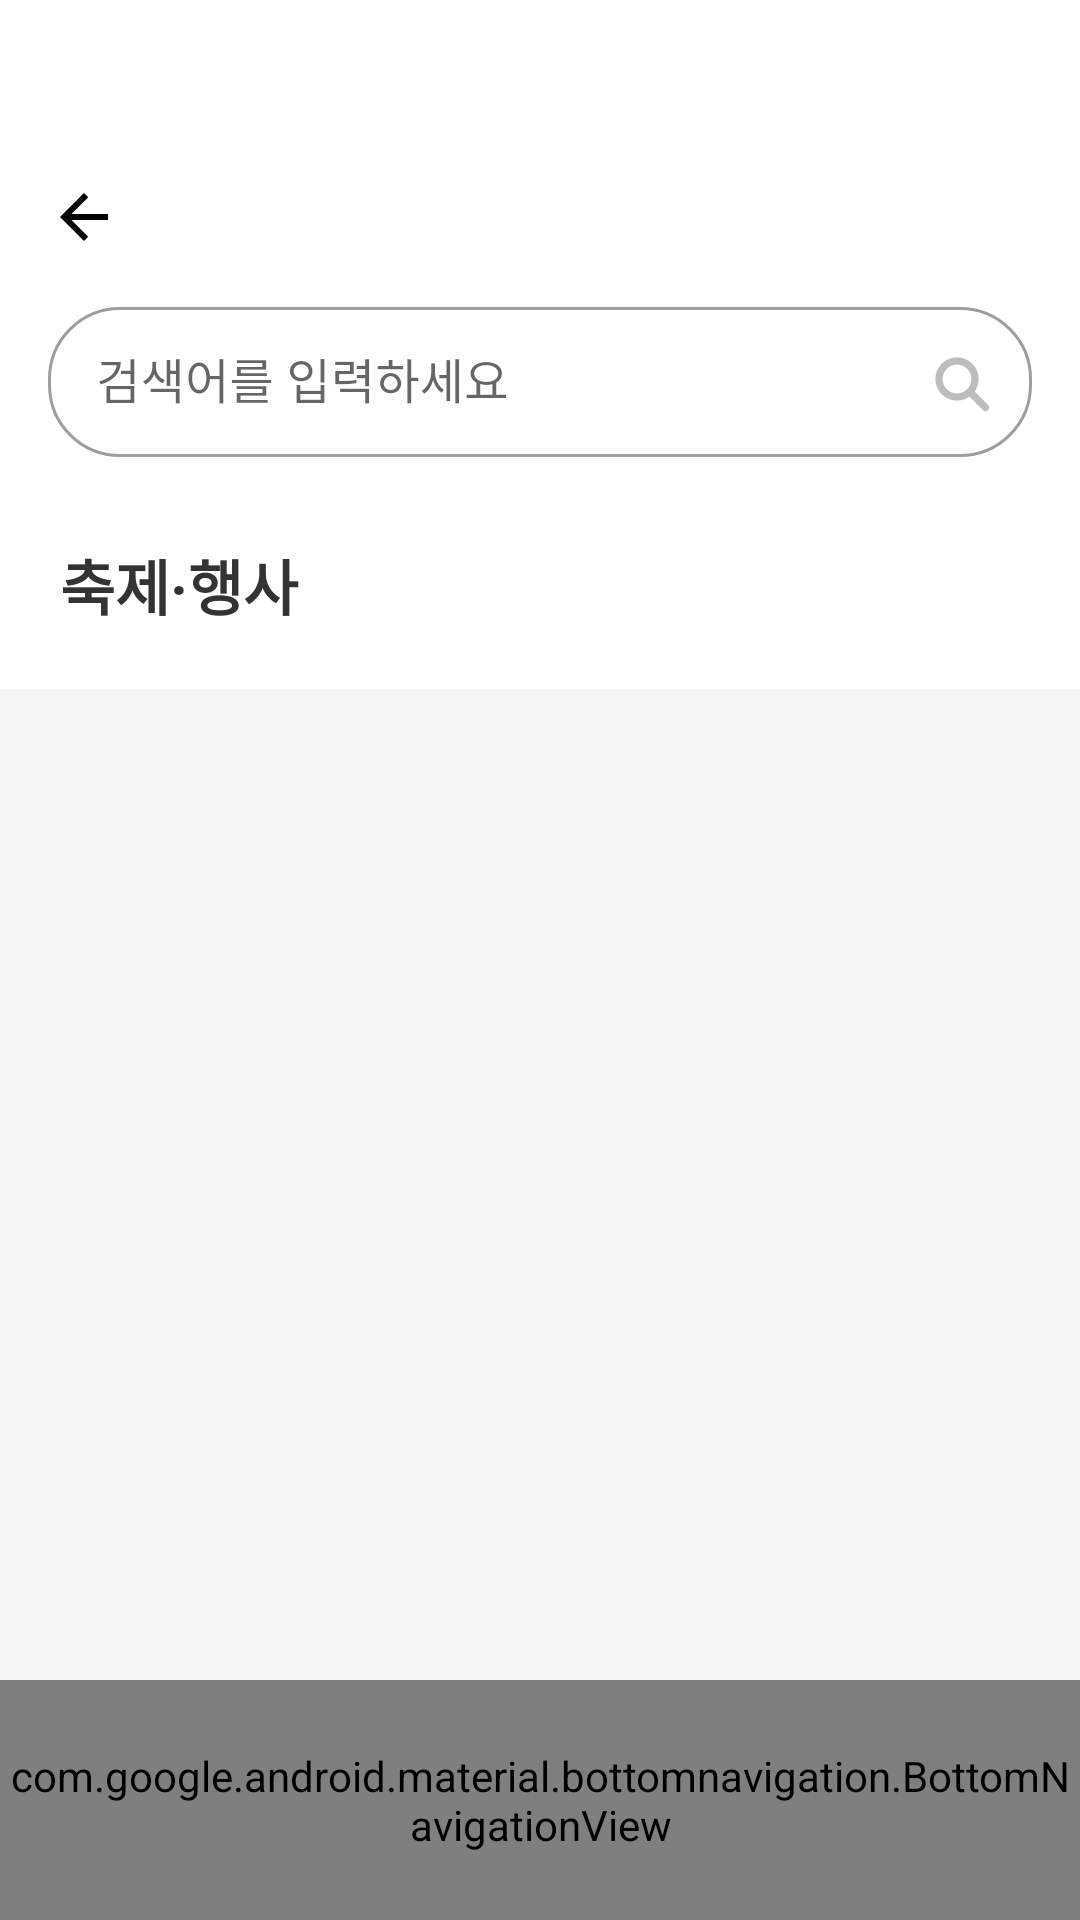

Screen size 1080px x 1920px. Icon name, then its center in pixels as [x,y]:
arrow back: [84,217]
